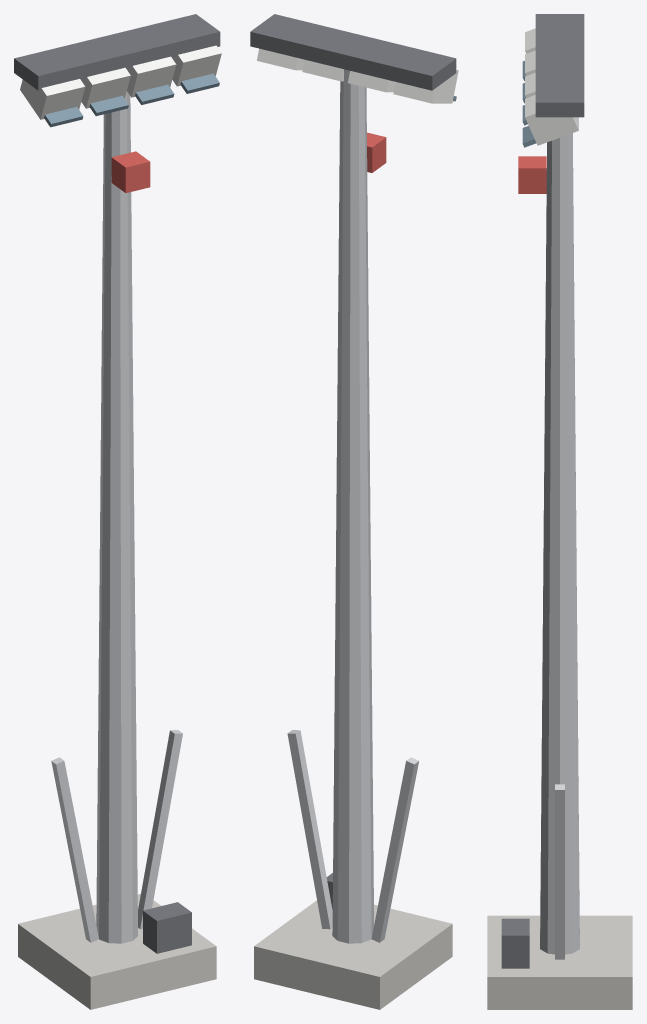
The model's file is floodlight.glb.
The picture shows the model from 3 angles, left to right: view 1: azimuth 30°, elevation 25°; view 2: azimuth 150°, elevation 25°; view 3: azimuth 270°, elevation 25°; orthographic projection.
Visible parts, largest first — view 1: floodlight-mast; view 2: floodlight-mast; view 3: floodlight-mast.
Boxes of the visible parts, bbox=[...] form: floodlight-mast: bbox=[14, 14, 221, 1009]; floodlight-mast: bbox=[250, 14, 458, 1009]; floodlight-mast: bbox=[487, 14, 632, 1009].
Bounding box in the file's own units: 2.6 × 12.6 × 1.8.
